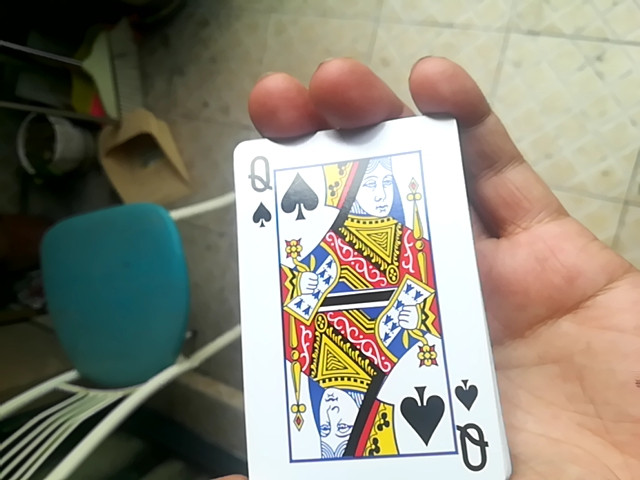ht q: (224, 106, 508, 480)
